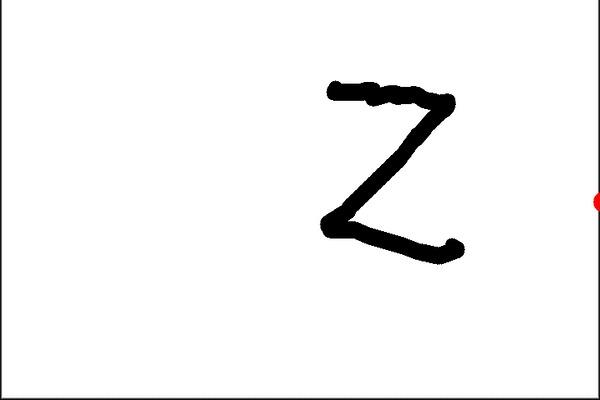Z: (310, 71, 475, 268)
